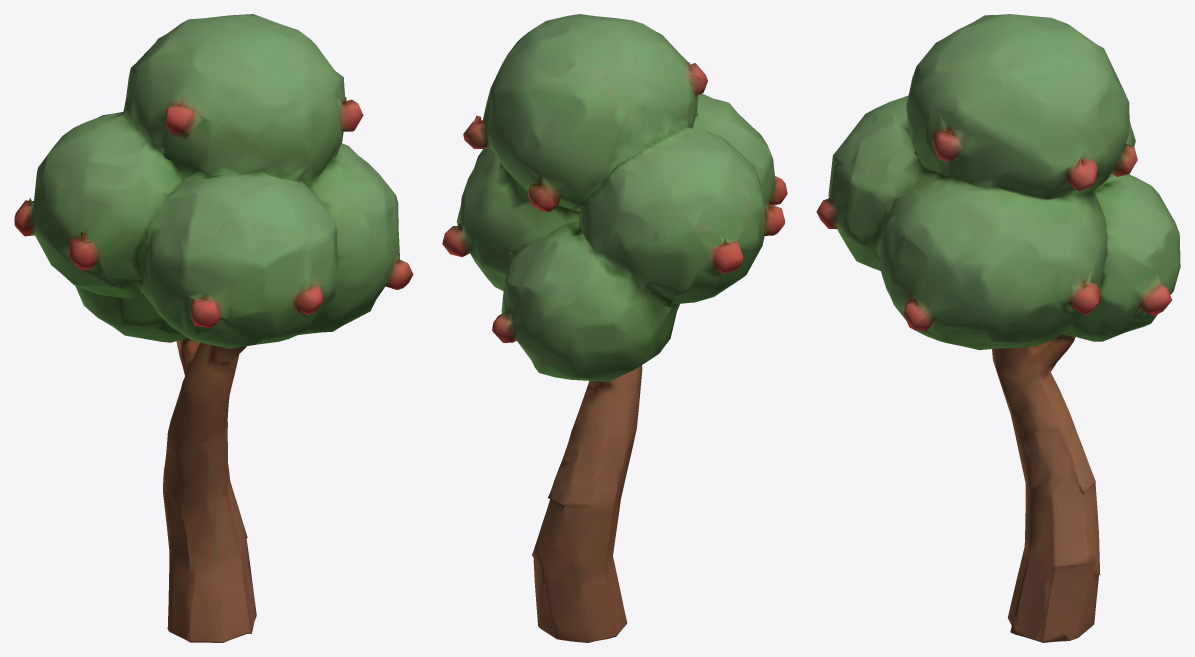
Rendered from tree-tall.glb.
The picture shows the model from 3 angles, left to right: view 1: azimuth 30°, elevation 25°; view 2: azimuth 150°, elevation 25°; view 3: azimuth 270°, elevation 25°; orthographic projection. The views are drawn at different scales.
Visible parts, largest first — view 1: tripo_node_0f6b822e-d422-491f-ab3e-b5b94ce678a4; view 2: tripo_node_0f6b822e-d422-491f-ab3e-b5b94ce678a4; view 3: tripo_node_0f6b822e-d422-491f-ab3e-b5b94ce678a4.
Boxes of the visible parts, <box> form: tripo_node_0f6b822e-d422-491f-ab3e-b5b94ce678a4: <box>14,14,413,642</box>; tripo_node_0f6b822e-d422-491f-ab3e-b5b94ce678a4: <box>442,14,787,642</box>; tripo_node_0f6b822e-d422-491f-ab3e-b5b94ce678a4: <box>816,14,1180,642</box>.
Bounding box in the file's own units: 0.5619 × 1 × 0.5494.
1 material, 1 textured.
